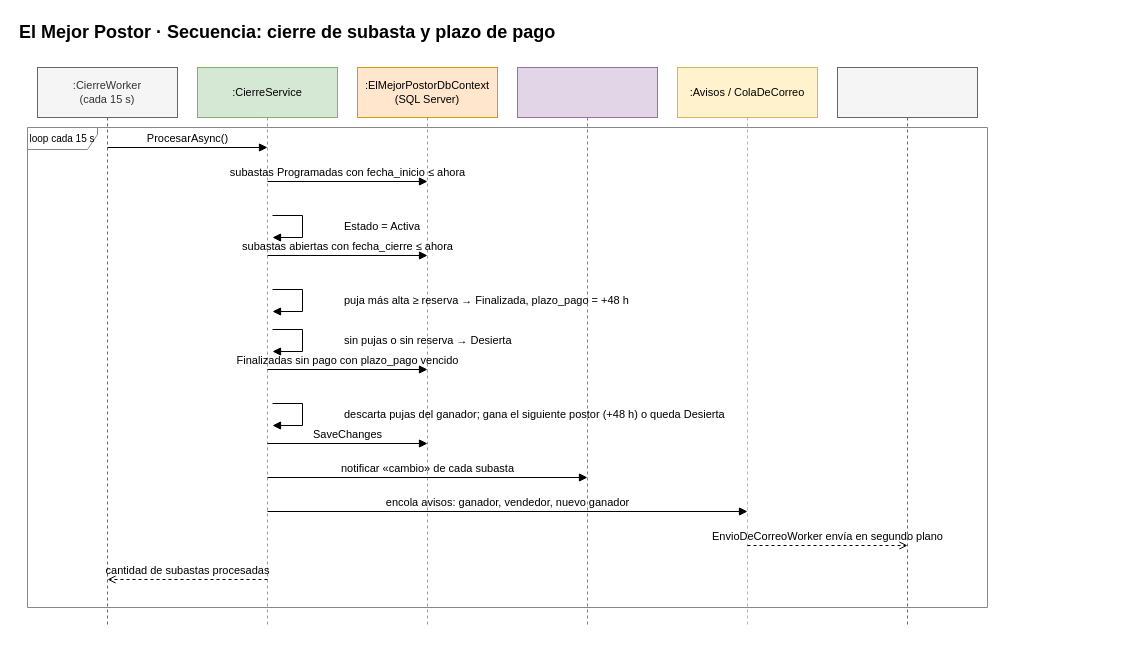
The diagram is 1134 pixels wide and 645 high, and some of its shapes have lost their labels. The shapes that lost their labels are listed below. From the top down, each one's box as (x1, y1, x2, y2) in pixels, then its label:
(516, 66, 658, 628): :SubastasHub (SignalR)
(836, 66, 978, 628): Servidor SMTP
